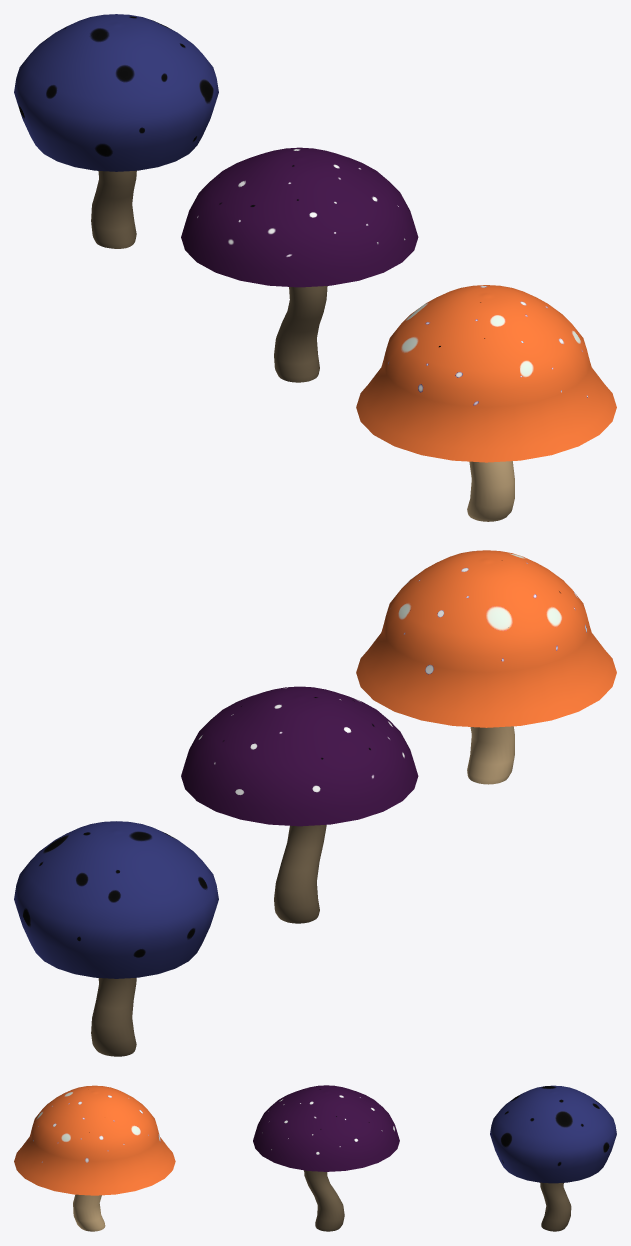
Rendered from mush3.fbx.
3 renders of one model, top to bottom at view 1: azimuth 30°, elevation 25°; view 2: azimuth 150°, elevation 25°; view 3: azimuth 270°, elevation 25°, orthographic. The views are drawn at different scales.
Visible parts, largest first — view 1: Cylinder.002, Cylinder.001, Cylinder.003; view 2: Cylinder.002, Cylinder.001, Cylinder.003; view 3: Cylinder.002, Cylinder.001, Cylinder.003.
Boxes of the visible parts, x1,y1,x2,y2 form: Cylinder.002: (356,285,616,521); Cylinder.001: (181,147,418,382); Cylinder.003: (14,14,218,248); Cylinder.002: (356,550,616,784); Cylinder.001: (181,686,418,923); Cylinder.003: (14,821,218,1056); Cylinder.002: (14,1085,175,1231); Cylinder.001: (253,1085,399,1231); Cylinder.003: (490,1085,616,1231).
Bounding box in the file's own units: 528 × 485 × 1969.
